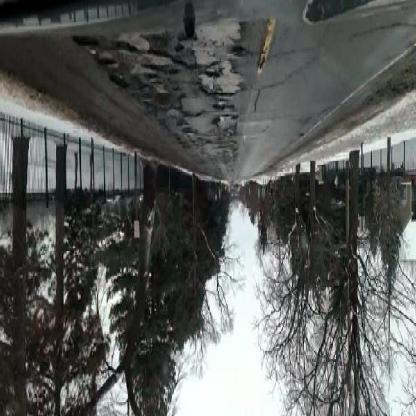pothole: (75, 33, 100, 54), (110, 72, 130, 94), (150, 68, 182, 79), (184, 22, 198, 41), (216, 102, 236, 115), (207, 68, 222, 82)
